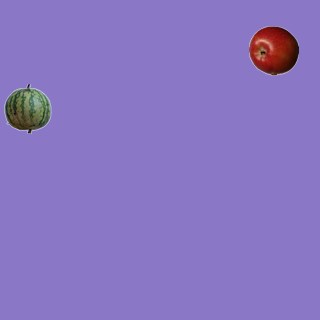Apple Braeburn: (248, 25, 298, 75)
Watermelon: (2, 83, 52, 133)
